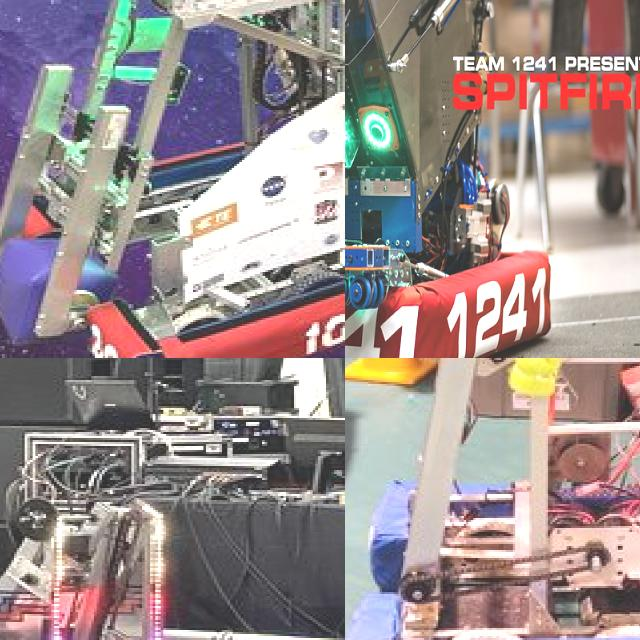FRC-Robots: (0, 0, 345, 358), (0, 358, 345, 640), (345, 0, 602, 358), (345, 358, 640, 640)
